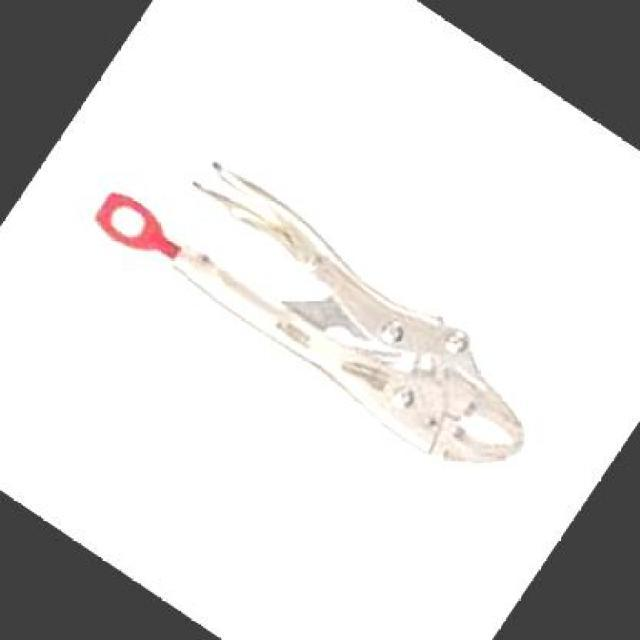pliers: (63, 82, 594, 524)
